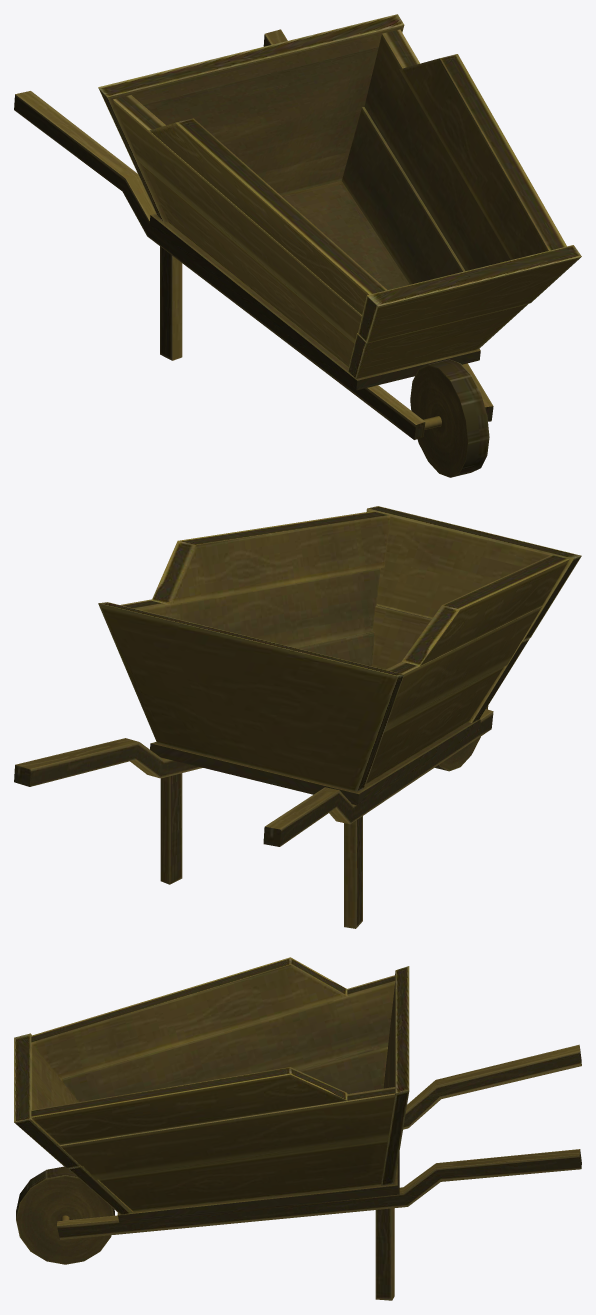
File: cart.glb
3 renders of one model, top to bottom at view 1: azimuth 30°, elevation 25°; view 2: azimuth 150°, elevation 25°; view 3: azimuth 270°, elevation 25°, orthographic. The views are drawn at different scales.
Visible parts, largest first — view 1: wheelbarrow; view 2: wheelbarrow; view 3: wheelbarrow.
Boxes of the visible parts, <box> form: wheelbarrow: <box>14,14,581,477</box>; wheelbarrow: <box>14,506,581,928</box>; wheelbarrow: <box>14,957,581,1300</box>.
Size of the model in its own units: 1.83 by 1.67 by 3.52.
1 material, 1 textured.
